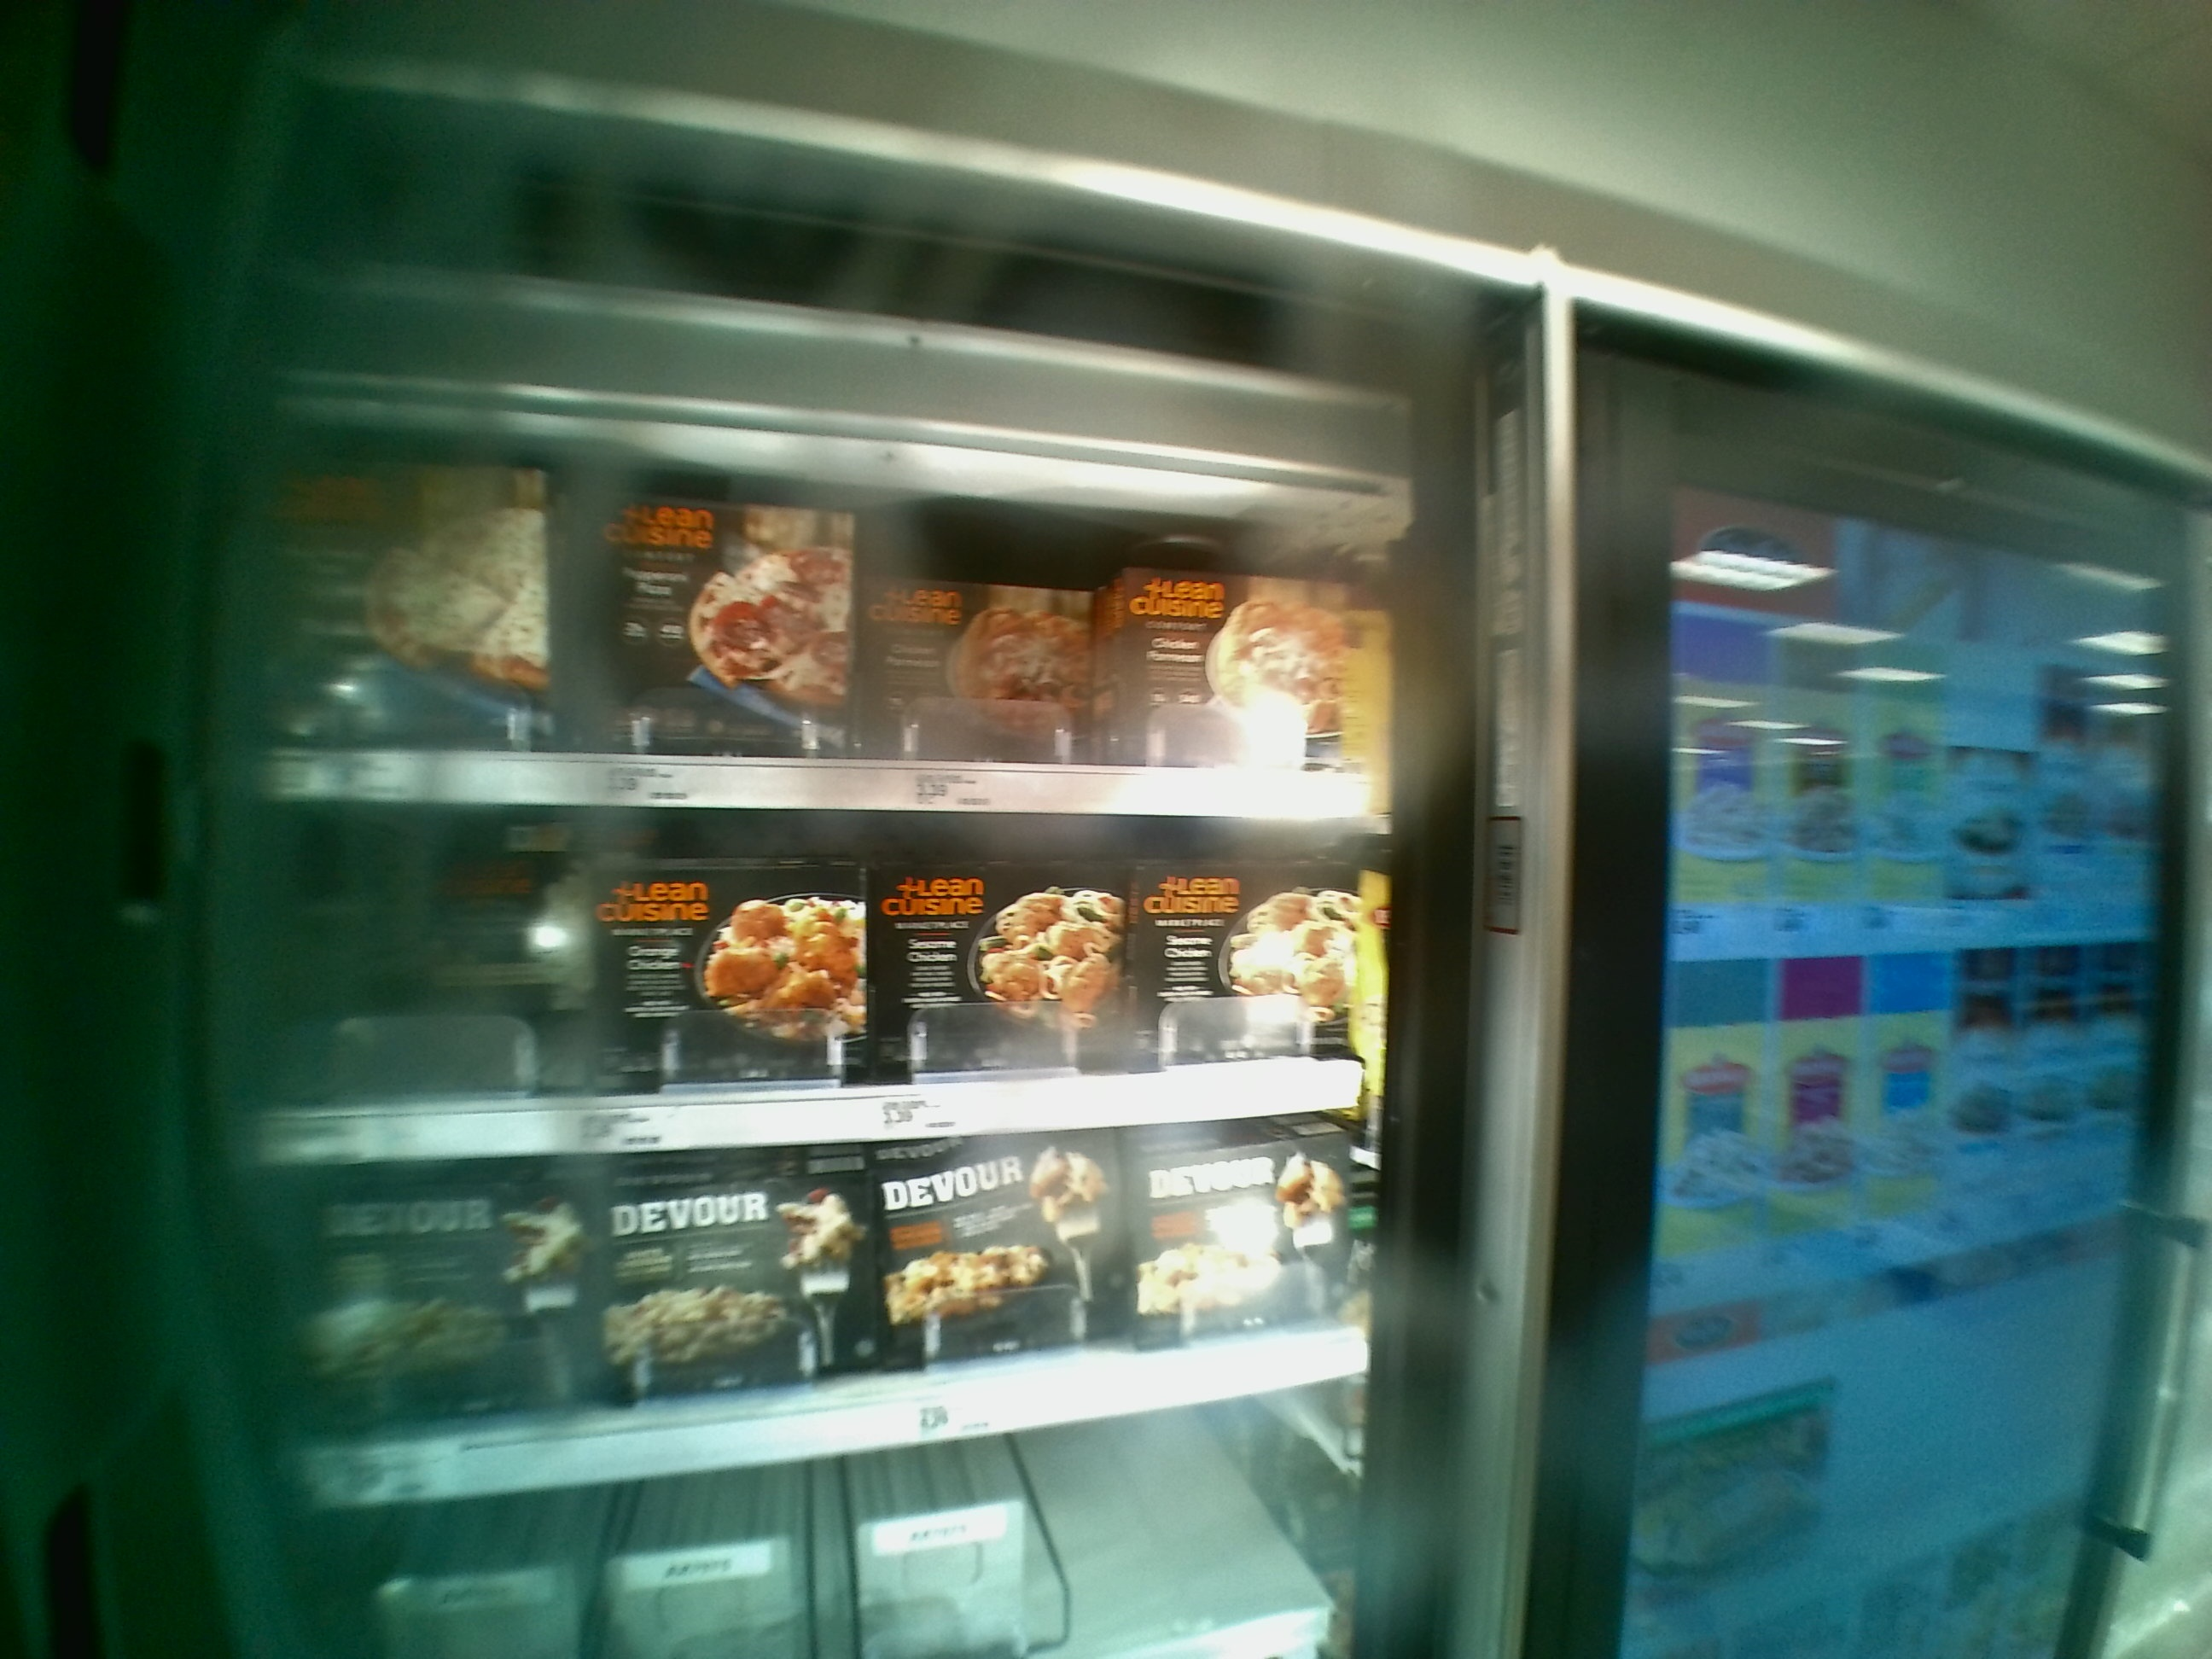Shelf: (254, 392, 1378, 823), (230, 803, 1385, 1162)
